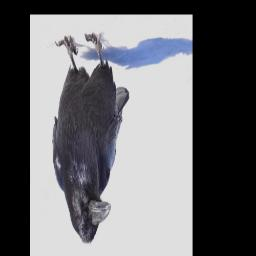Crow: (52, 31, 131, 246)
